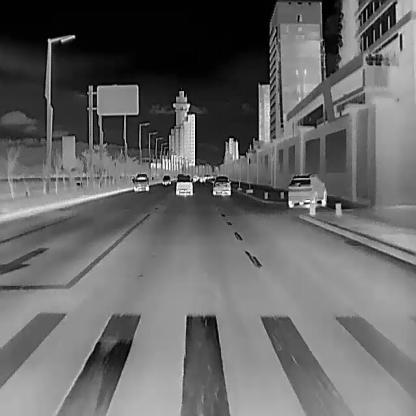car: (287, 173, 326, 207), (211, 175, 231, 196), (175, 174, 193, 195), (132, 172, 149, 190), (162, 174, 171, 184)
